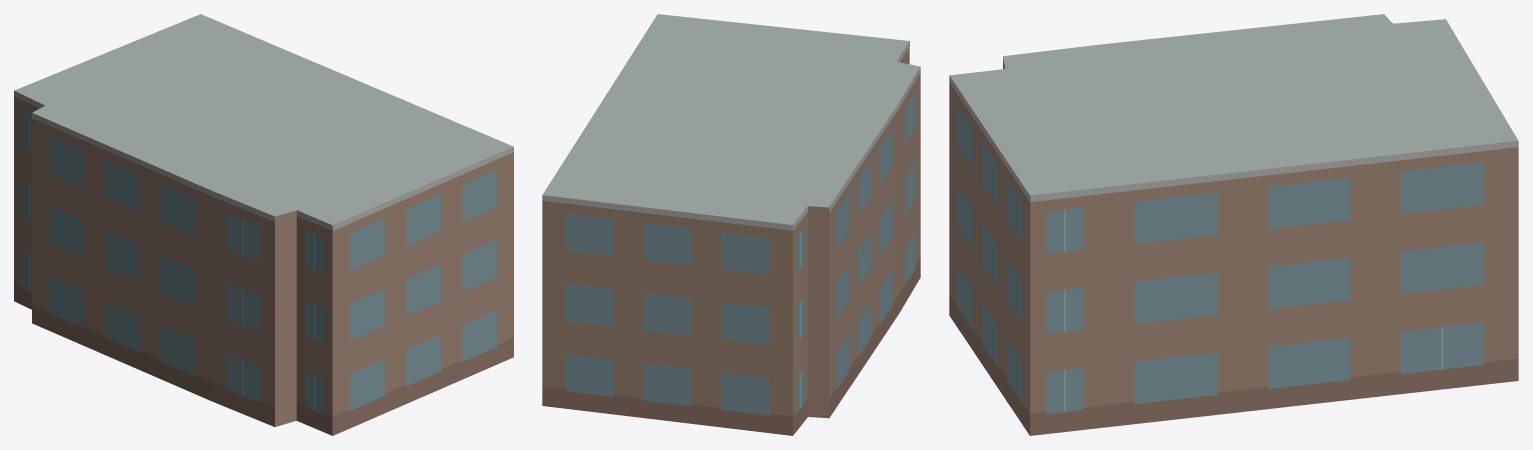
The model's file is survey-upis-32917170.glb.
The picture shows the model from 3 angles, left to right: view 1: azimuth 30°, elevation 25°; view 2: azimuth 150°, elevation 25°; view 3: azimuth 270°, elevation 25°; orthographic projection. The views are drawn at different scales.
Parts seen in each view (by area): view 1: survey-upis-32917170.tmp; view 2: survey-upis-32917170.tmp; view 3: survey-upis-32917170.tmp.
Part boxes in pixels (x1,y1,x2,y2): survey-upis-32917170.tmp: (14,14,513,435); survey-upis-32917170.tmp: (542,14,920,435); survey-upis-32917170.tmp: (949,14,1518,435).
Size of the model in its own units: 14.86 by 9.15 by 19.66.
